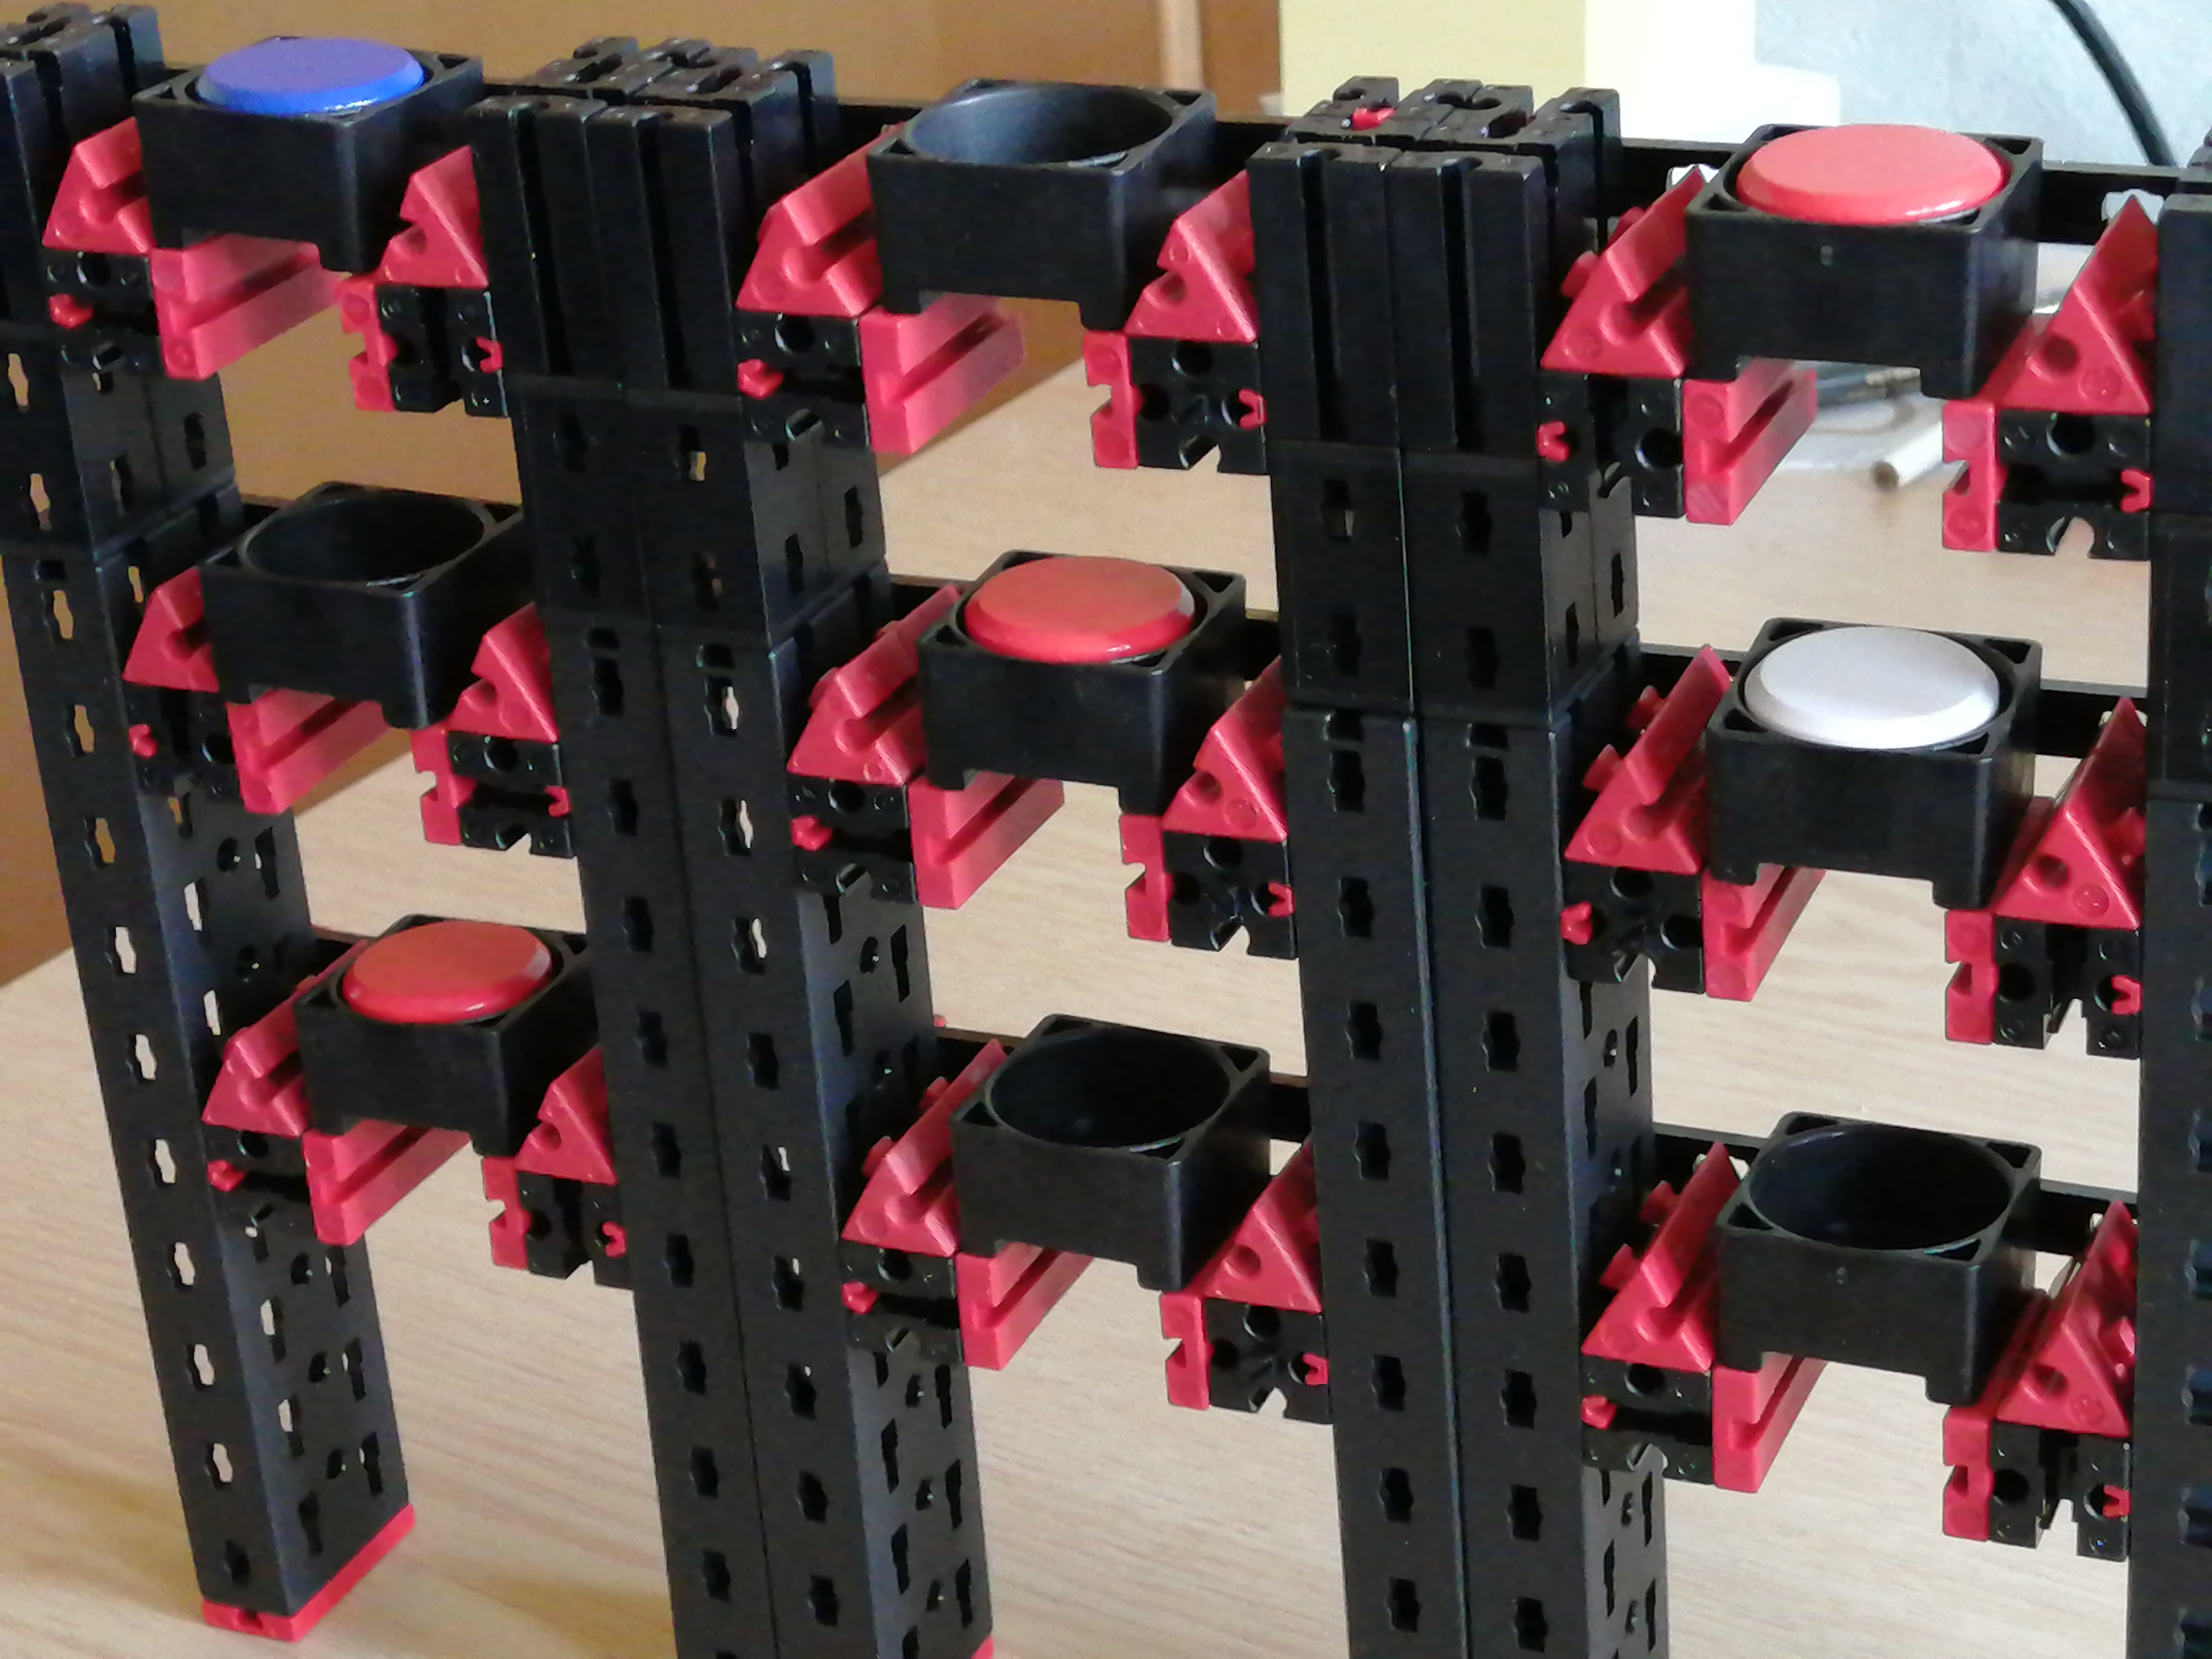Behaelter: (1695, 110, 2020, 404), (1716, 610, 2005, 887), (1730, 1108, 2008, 1375), (923, 558, 1198, 789), (876, 75, 1125, 321), (979, 1012, 1217, 1253), (214, 490, 462, 721), (157, 51, 390, 265), (326, 917, 540, 1134)
WerkStueck: (1749, 626, 1994, 742), (1740, 125, 2013, 218), (960, 559, 1198, 657), (206, 45, 415, 124), (361, 927, 549, 1011)
